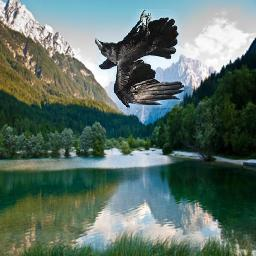Crow: (96, 10, 185, 109)
